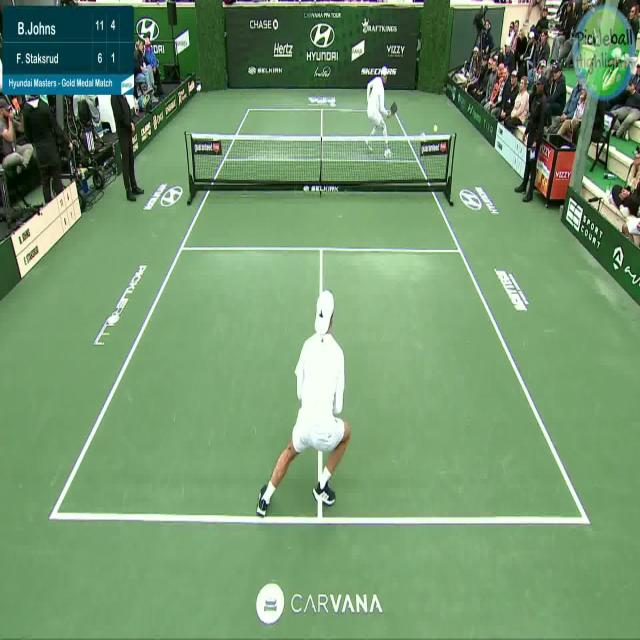ball: (433, 122, 438, 134)
